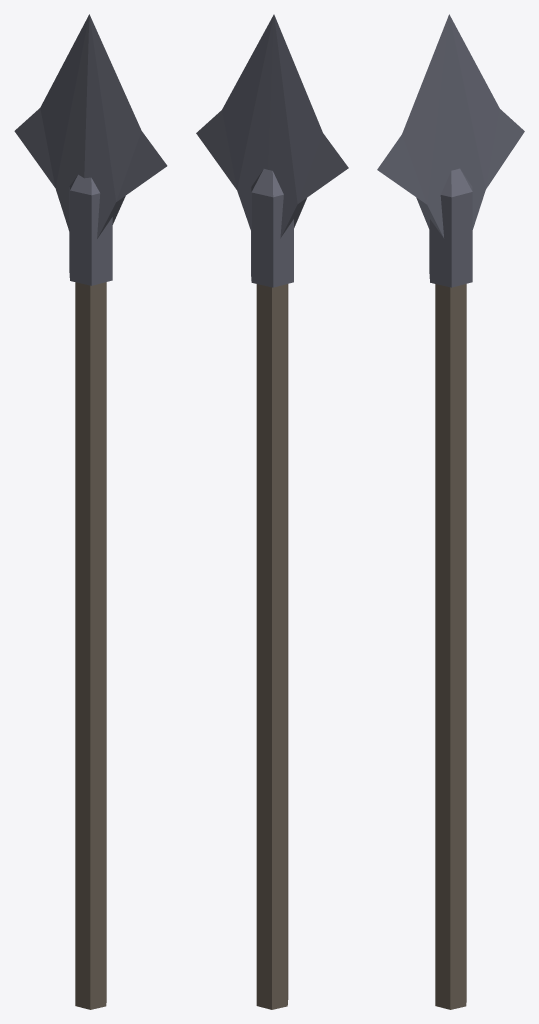
The model's file is _Arhers_shell_LVL_1.fbx.
The picture shows the model from 3 angles, left to right: view 1: azimuth 30°, elevation 25°; view 2: azimuth 210°, elevation 25°; view 3: azimuth 270°, elevation 25°; orthographic projection.
Visible parts, largest first — view 1: Arhers_shell_LVL_1; view 2: Arhers_shell_LVL_1; view 3: Arhers_shell_LVL_1.
Boxes of the visible parts, left/top/right/bottom form: Arhers_shell_LVL_1: left=14, top=14, right=167, bottom=1009; Arhers_shell_LVL_1: left=196, top=14, right=348, bottom=1009; Arhers_shell_LVL_1: left=377, top=14, right=524, bottom=1009.
Bounding box in the file's own units: 24.14 × 289 × 39.19.
